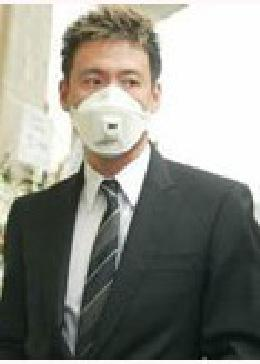yes_mask: (55, 4, 162, 159)
